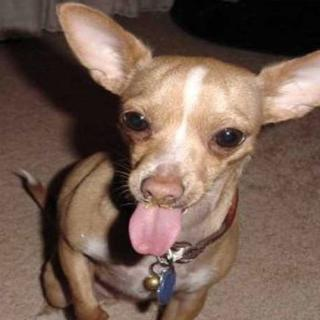dog: (51, 4, 320, 240)
nose: (138, 167, 187, 204)
